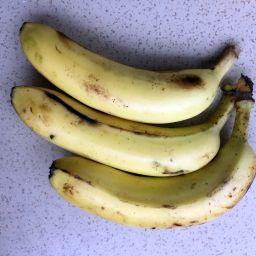banana: (47, 95, 256, 231), (8, 72, 256, 180), (16, 19, 244, 127)
